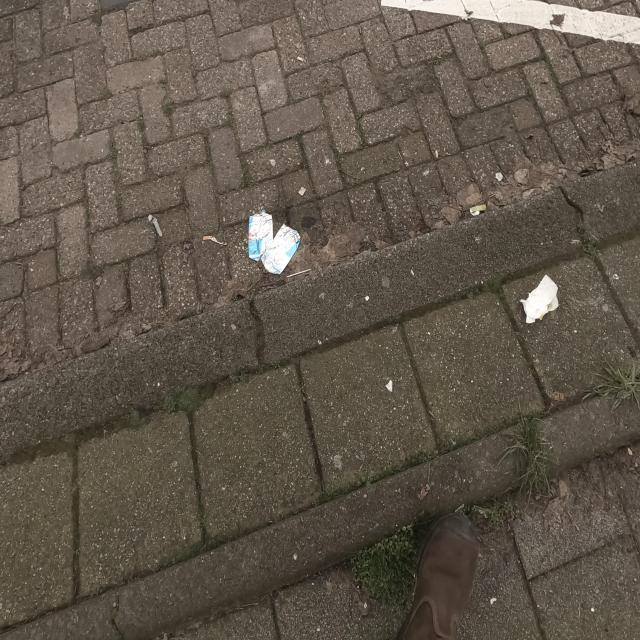Can-Metal: (269, 221, 297, 273), (246, 208, 272, 260)
